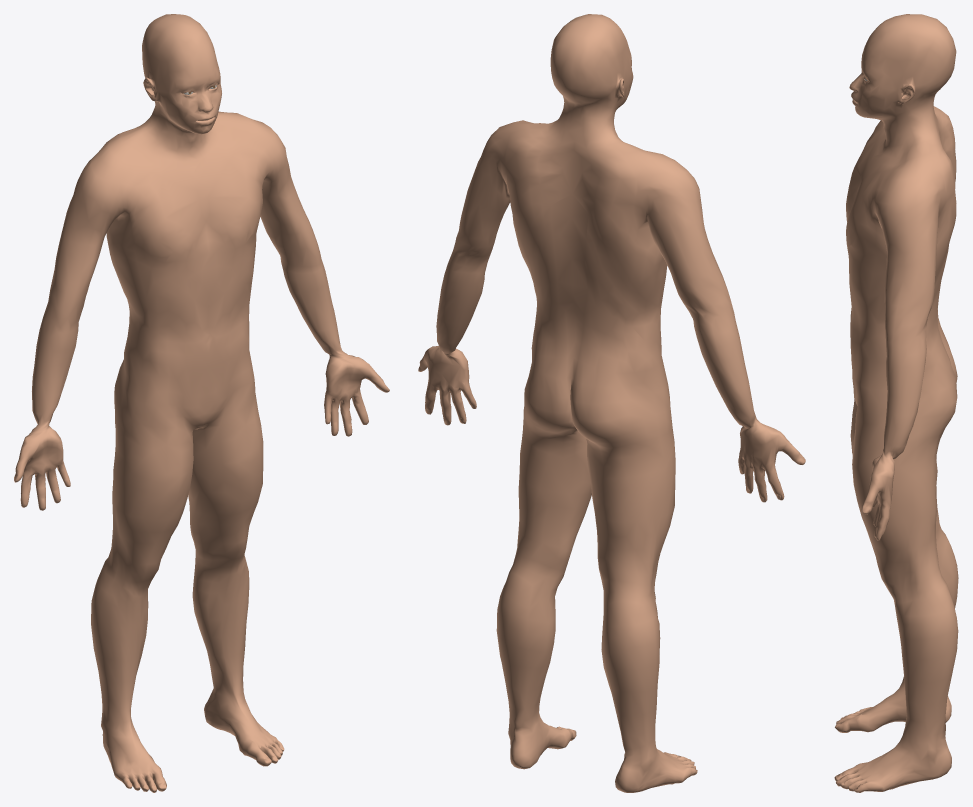
Rendered from mh-skin-male.glb.
The picture shows the model from 3 angles, left to right: view 1: azimuth 30°, elevation 25°; view 2: azimuth 150°, elevation 25°; view 3: azimuth 270°, elevation 25°; orthographic projection. The views are drawn at different scales.
Parts seen in each view (by area): view 1: skin_body_male; view 2: skin_body_male; view 3: skin_body_male.
Part boxes in pixels (<box>): skin_body_male: <box>14,14,389,792</box>; skin_body_male: <box>418,14,805,792</box>; skin_body_male: <box>834,14,958,792</box>.
Bounding box in the file's own units: 0.8837 × 1.66 × 0.252.
